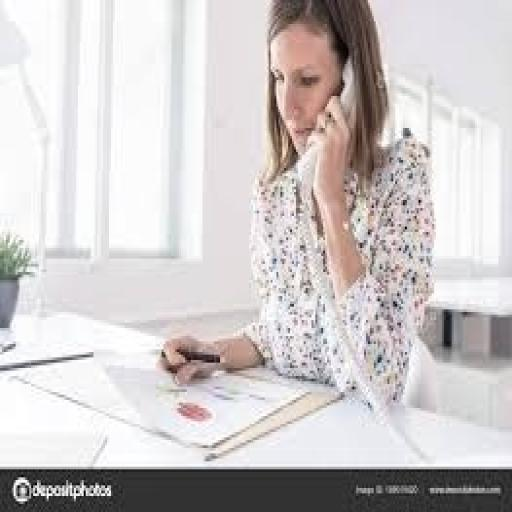calling: (155, 0, 438, 421)
